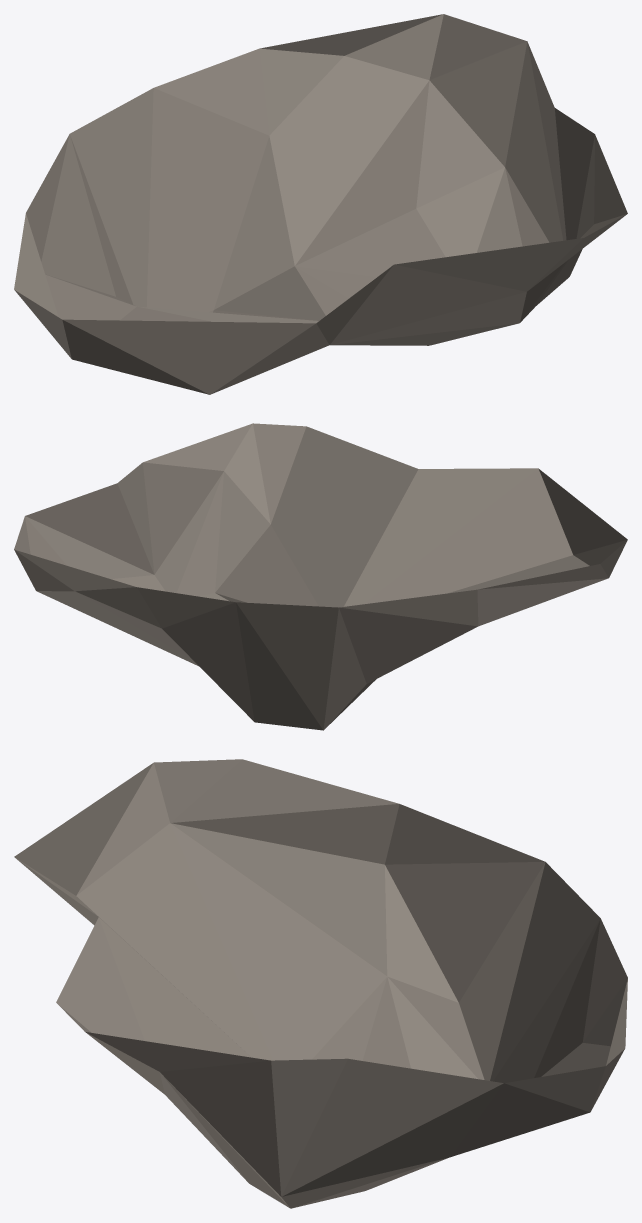
The model's file is Env_Rock01.FBX.
3 renders of one model, top to bottom at view 1: azimuth 30°, elevation 25°; view 2: azimuth 150°, elevation 25°; view 3: azimuth 270°, elevation 25°, orthographic. The views are drawn at different scales.
Visible parts, largest first — view 1: Env_Rock01; view 2: Env_Rock01; view 3: Env_Rock01.
Part boxes in pixels (<box>): Env_Rock01: <box>14,14,627,394</box>; Env_Rock01: <box>14,423,627,730</box>; Env_Rock01: <box>14,759,627,1208</box>.
Size of the model in its own units: 220 by 64.61 by 176.
Materials: 1 (1 with a texture image).
